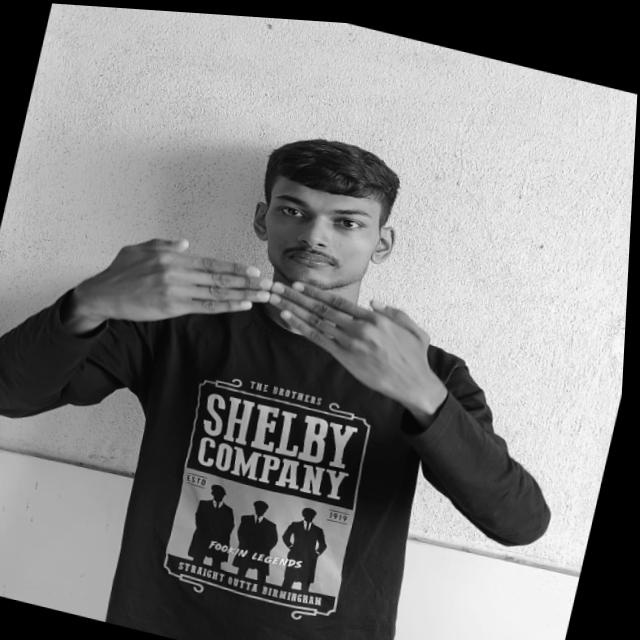Night: (89, 215, 455, 397)
